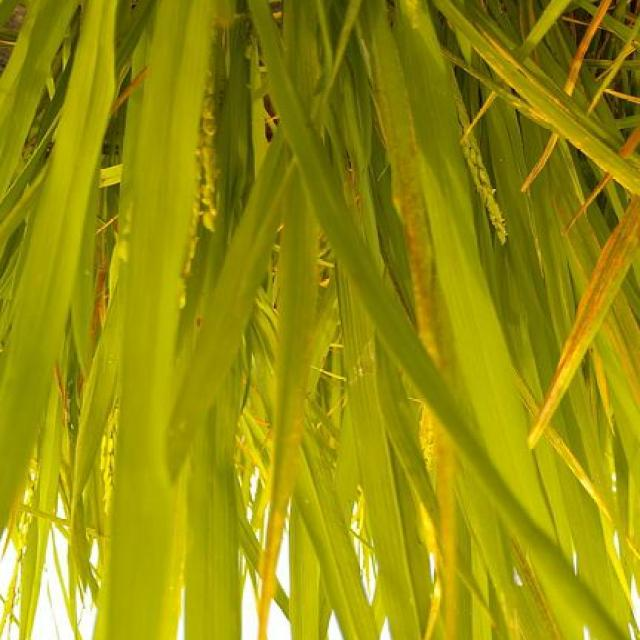Leaf Streak: (527, 192, 640, 449), (376, 91, 455, 388), (257, 263, 317, 640), (514, 551, 583, 640), (436, 421, 453, 640)
